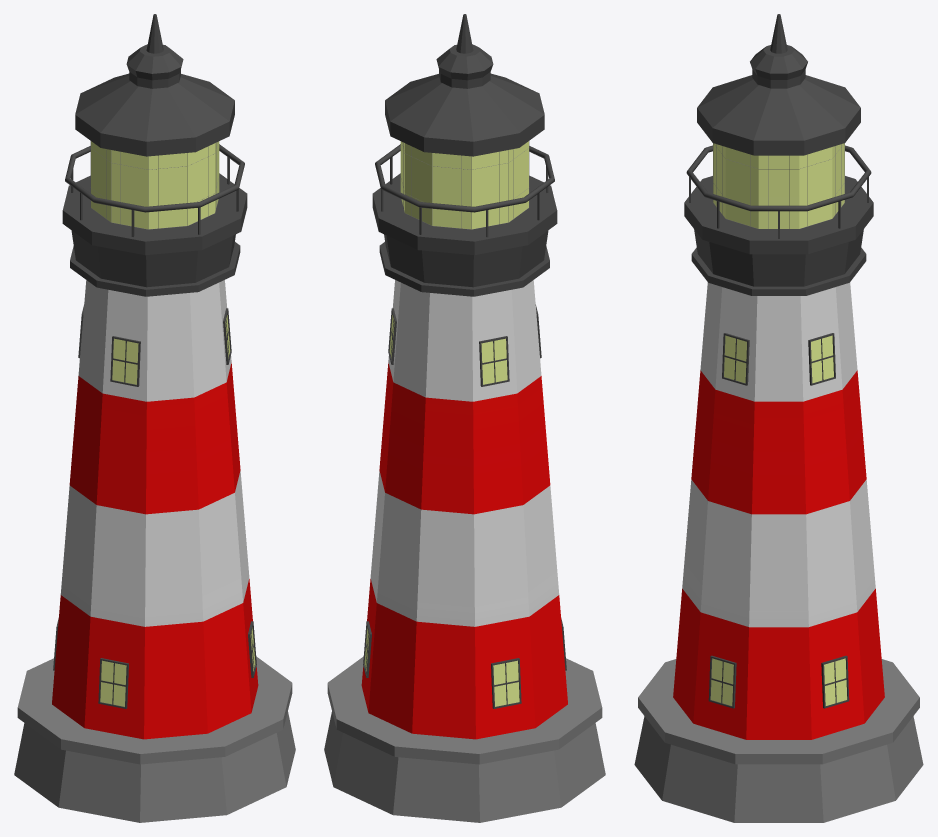
File: lighthouse.glb
The picture shows the model from 3 angles, left to right: view 1: azimuth 30°, elevation 25°; view 2: azimuth 150°, elevation 25°; view 3: azimuth 270°, elevation 25°; orthographic projection.
Visible parts, largest first — view 1: Circle, Circle.002, Plane.001, Plane, Circle.003; view 2: Circle, Circle.002, Plane.001, Plane, Circle.003; view 3: Circle, Plane.001, Plane, Circle.002, Circle.003.
Boxes of the visible parts, x1,y1,x2,y2 form: Circle: [14, 14, 295, 822]; Circle.002: [65, 144, 244, 236]; Plane.001: [53, 617, 256, 708]; Plane: [78, 304, 231, 386]; Circle.003: [90, 141, 218, 229]; Circle: [324, 14, 605, 822]; Circle.002: [375, 144, 554, 237]; Plane.001: [363, 617, 566, 708]; Plane: [388, 304, 541, 386]; Circle.003: [401, 141, 529, 229]; Circle: [634, 14, 923, 822]; Plane.001: [708, 655, 849, 708]; Plane: [722, 333, 835, 385]; Circle.002: [686, 145, 871, 238]; Circle.003: [713, 143, 844, 228].
Size of the model in its own units: 4.26 by 12.83 by 4.48.
1 material, 1 textured.
